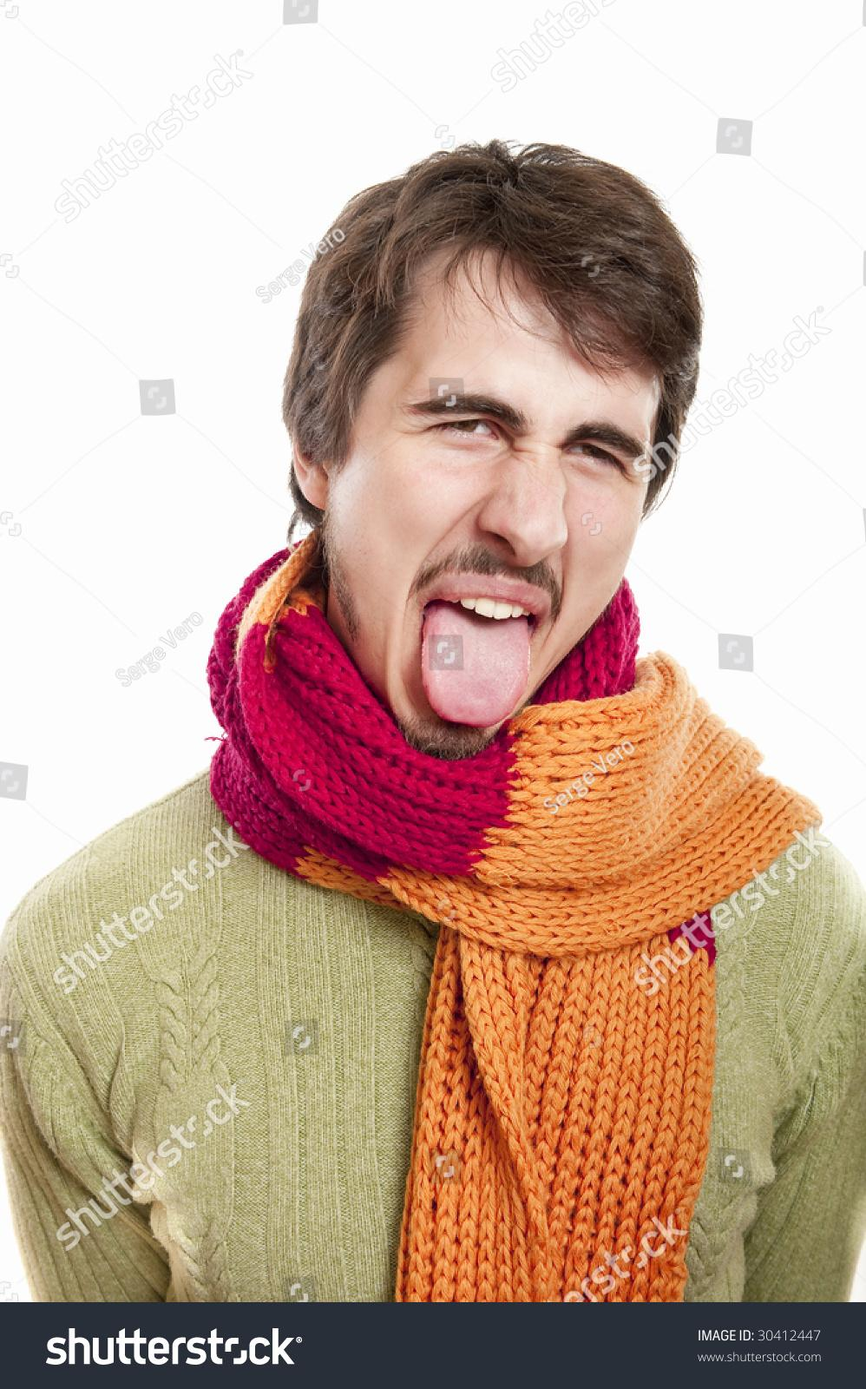person: (226, 74, 664, 807)
